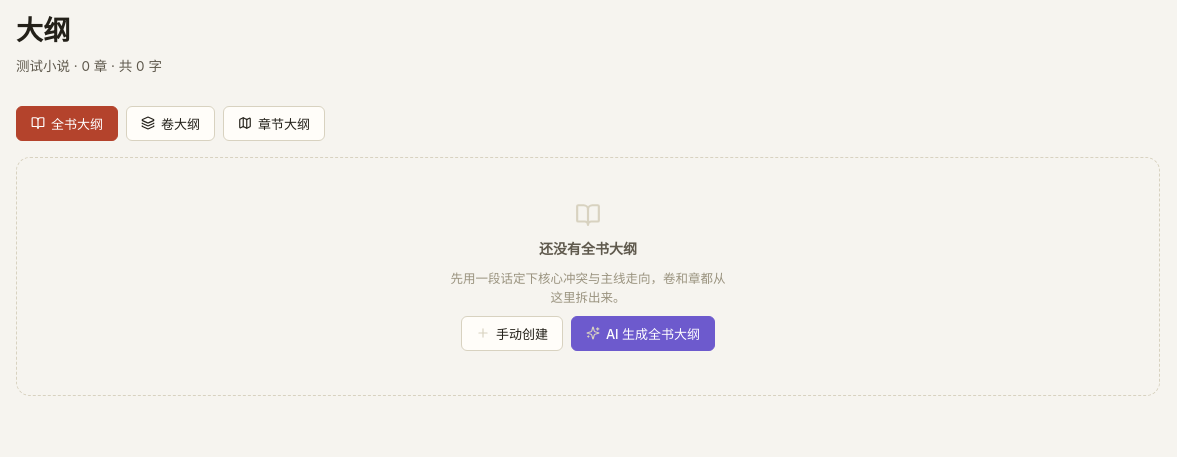
Test case: 章节 tab 按卷分组显示章节
Step 1. Click the button "章节大纲" → (274, 123), box [223,106,325,141]
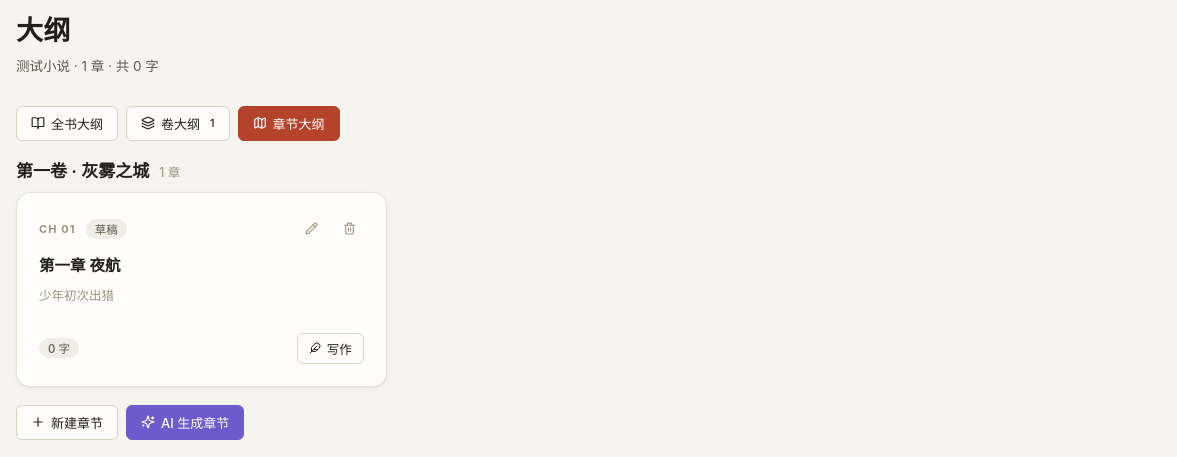
Check: the text "第一章 夜航" is shown, box [39,257,120,274]
Check: the heading "第一卷 · 灰雾之城 1 章" is shown, box [16,162,180,181]
